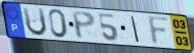0: (48, 8, 70, 39)
5: (97, 12, 120, 43)
F: (147, 15, 171, 46)
I: (130, 15, 141, 44)
P: (70, 10, 97, 41)
U: (21, 7, 49, 38)
